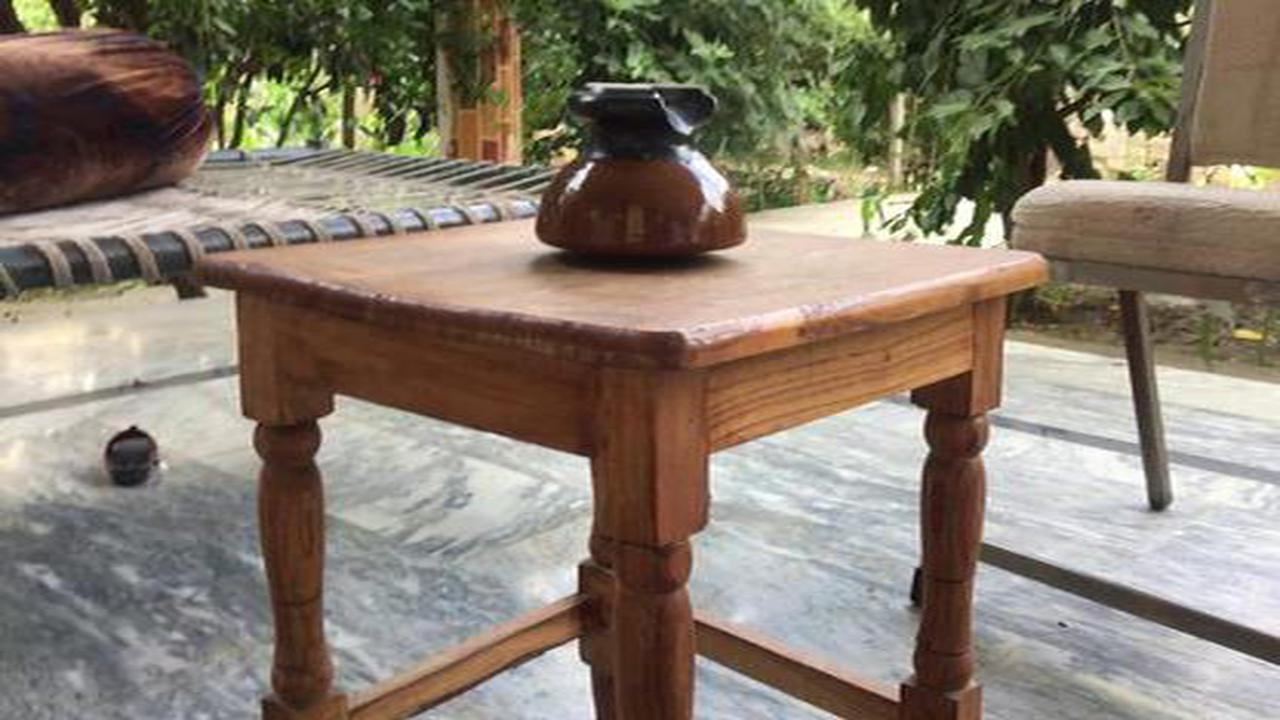insulator_pin: (521, 65, 764, 269)
